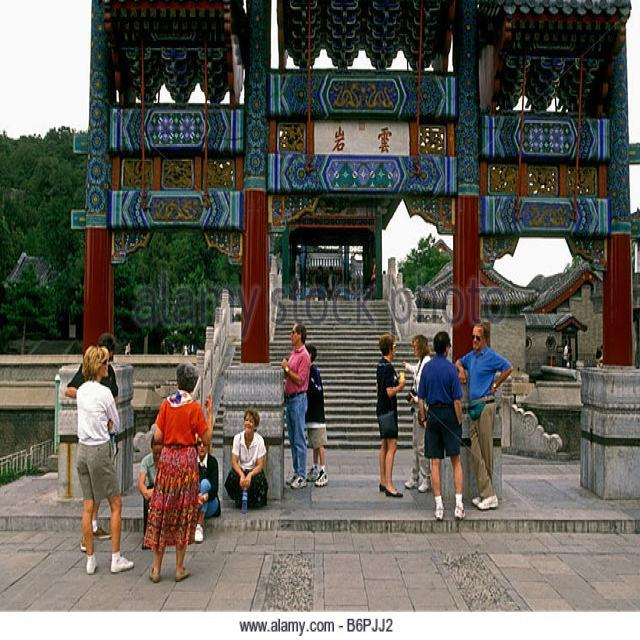body: (141, 357, 215, 585), (72, 342, 135, 578), (453, 318, 516, 511), (415, 328, 468, 523), (373, 332, 409, 500), (279, 318, 312, 493), (222, 404, 271, 509), (401, 332, 432, 494), (64, 332, 120, 405), (304, 342, 330, 489), (283, 262, 373, 302), (136, 431, 165, 551), (193, 434, 222, 545), (155, 326, 197, 355), (559, 338, 578, 373), (593, 341, 608, 370), (118, 340, 134, 359)
